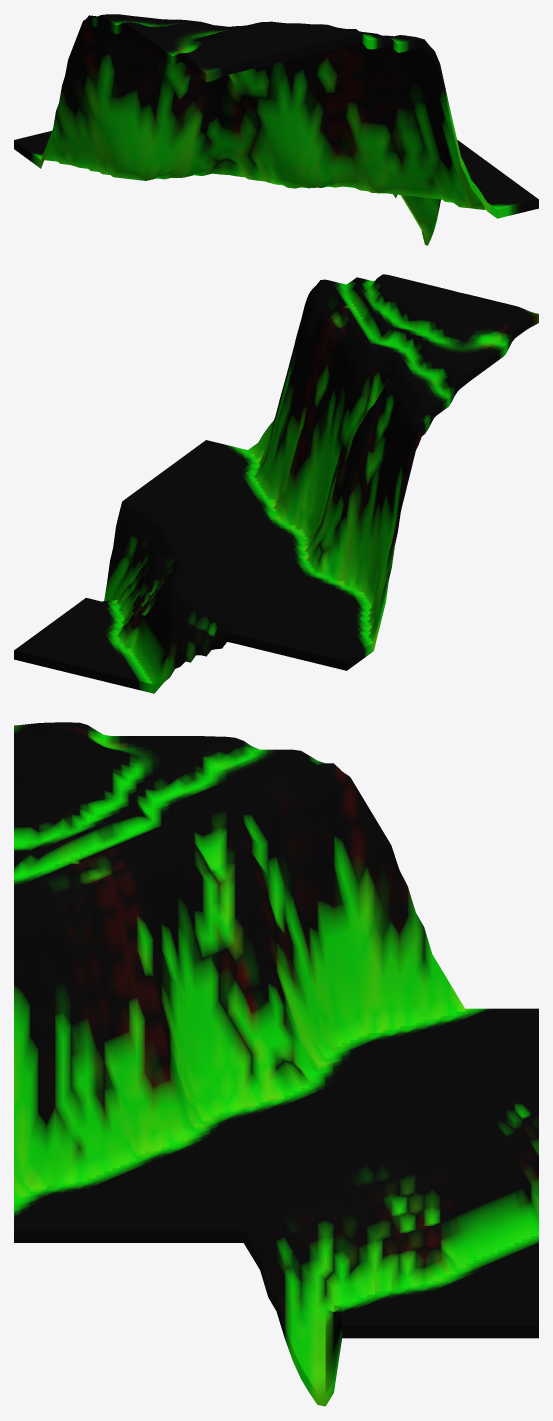
Rendered from Terrain_06_06.fbx.
The picture shows the model from 3 angles, top to bottom: view 1: azimuth 30°, elevation 25°; view 2: azimuth 150°, elevation 25°; view 3: azimuth 270°, elevation 25°; orthographic projection. The views are drawn at different scales.
Visible parts, largest first — view 1: Terrain_06_06_LOD0; view 2: Terrain_06_06_LOD0; view 3: Terrain_06_06_LOD0.
Part boxes in pixels (x1,y1,x2,y2): Terrain_06_06_LOD0: (14,14,538,245); Terrain_06_06_LOD0: (14,274,538,693); Terrain_06_06_LOD0: (14,722,538,1406).
Size of what is drawn, in the model's own units: 384 by 373 by 384.
